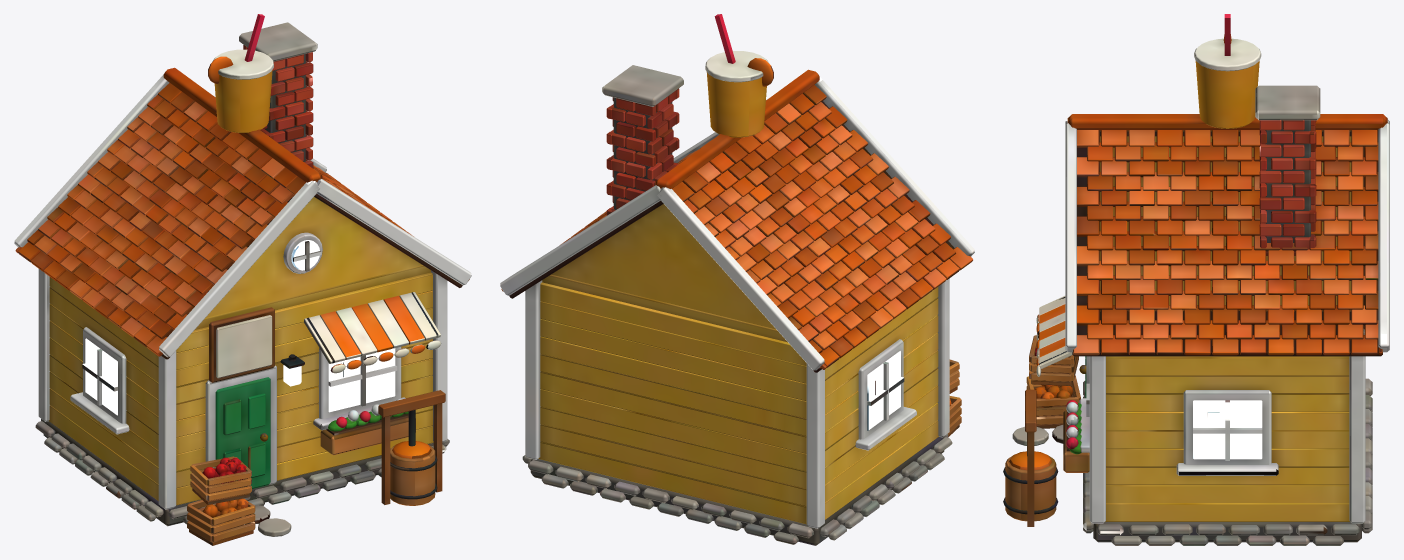
The model's file is juice_press.glb.
The picture shows the model from 3 angles, left to right: view 1: azimuth 30°, elevation 25°; view 2: azimuth 150°, elevation 25°; view 3: azimuth 270°, elevation 25°; orthographic projection. The views are drawn at different scales.
Visible parts, largest first — view 1: juice_press; view 2: juice_press; view 3: juice_press.
Boxes of the visible parts, x1,y1,x2,y2 form: juice_press: [14, 14, 471, 545]; juice_press: [500, 14, 974, 545]; juice_press: [1003, 14, 1389, 545].
Bounding box in the file's own units: 1.68 × 2.22 × 1.67.
Materials: 1 (1 with a texture image).
